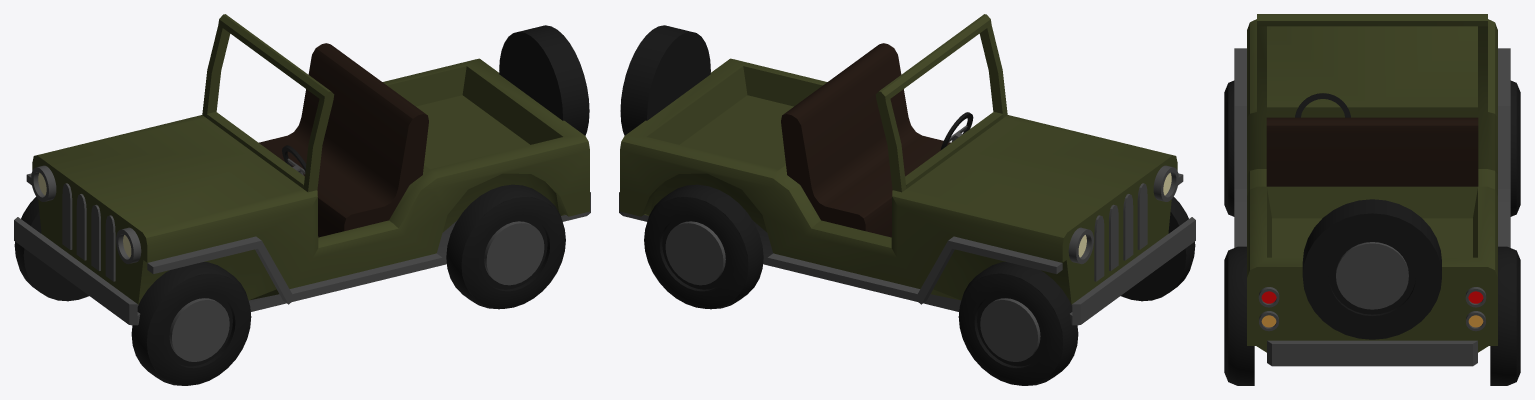
File: jeep.fbx
3 renders of one model, left to right at view 1: azimuth 30°, elevation 25°; view 2: azimuth 150°, elevation 25°; view 3: azimuth 270°, elevation 25°, orthographic. The views are drawn at different scales.
Parts seen in each view (by area): view 1: body, wheels, Reserv_wheel; view 2: body, wheels, Reserv_wheel; view 3: body, Reserv_wheel, wheels.
Part boxes in pixels (x1,y1,x2,y2): body: (14, 14, 590, 325); wheels: (14, 184, 565, 385); Reserv_wheel: (499, 25, 589, 135); body: (619, 14, 1195, 325); wheels: (644, 184, 1195, 385); Reserv_wheel: (620, 25, 710, 135); body: (1234, 14, 1510, 366); Reserv_wheel: (1302, 199, 1441, 339); wheels: (1224, 80, 1520, 385).
Bounding box in the file's own units: 395 × 195 × 191.
